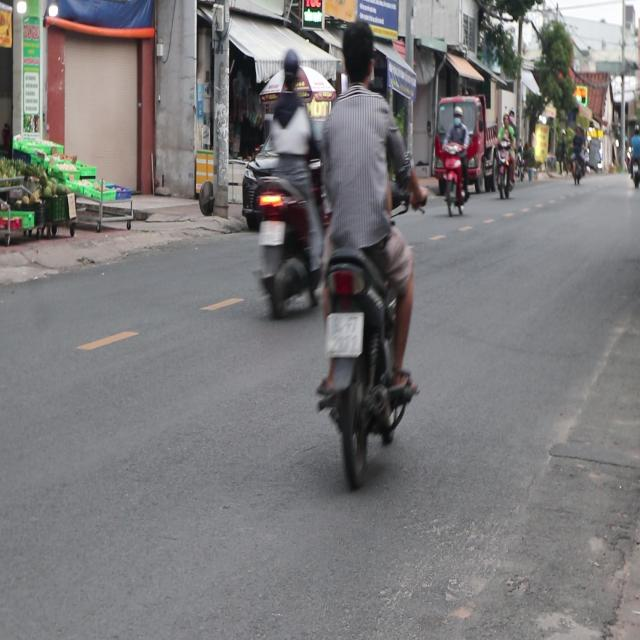helmet: (279, 46, 301, 92)
licenseplate: (311, 18, 423, 484), (247, 45, 324, 319)
motorcyclist: (339, 19, 376, 89)
nohelmet: (325, 312, 362, 354), (258, 220, 284, 245)
